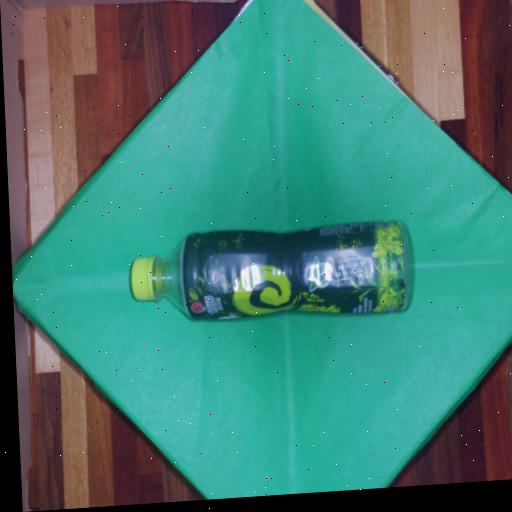bottle: (116, 204, 431, 343)
